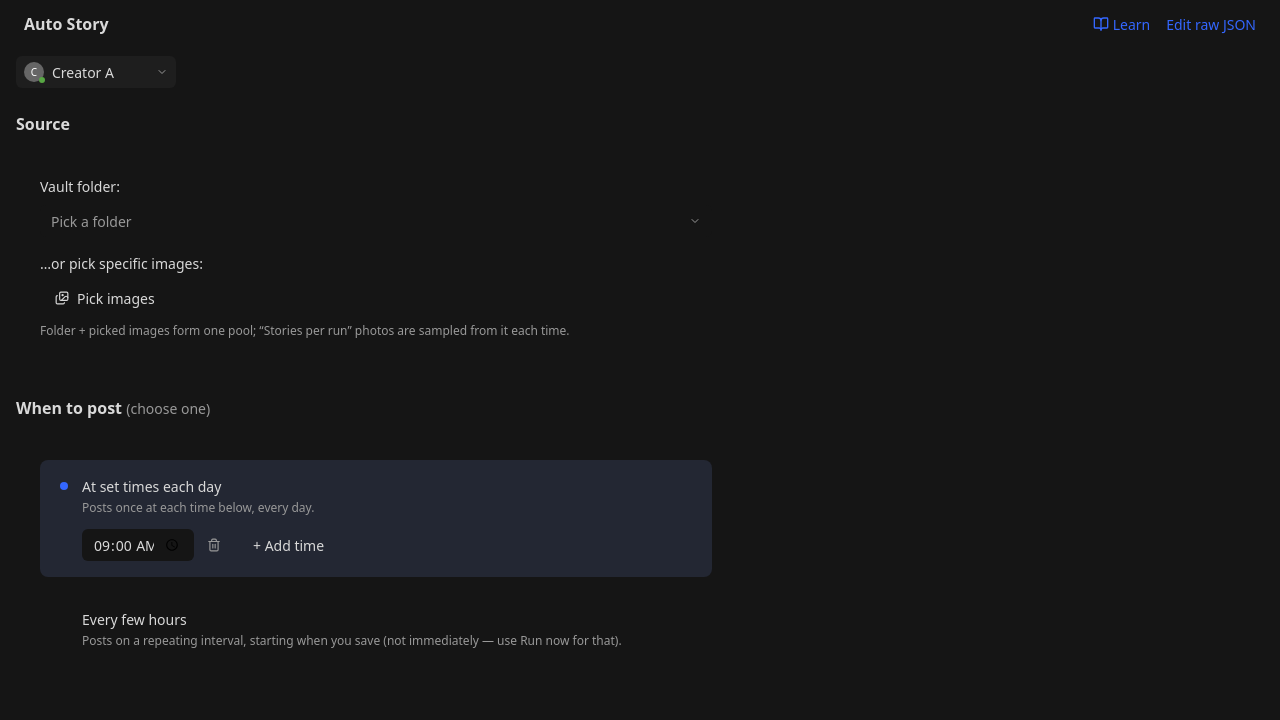
Test: Auto Story (AutoStoriesTab) › has the page header, the five blocks and Create automation when new
The image size is (1280, 720).
Check: the heading "Auto Story" is shown, box [24, 12, 109, 36]
Check: the button "Edit raw JSON" is shown, box [1166, 14, 1256, 34]
Click the button "Learn". click: click(1121, 24)
box: [1093, 14, 1150, 34]
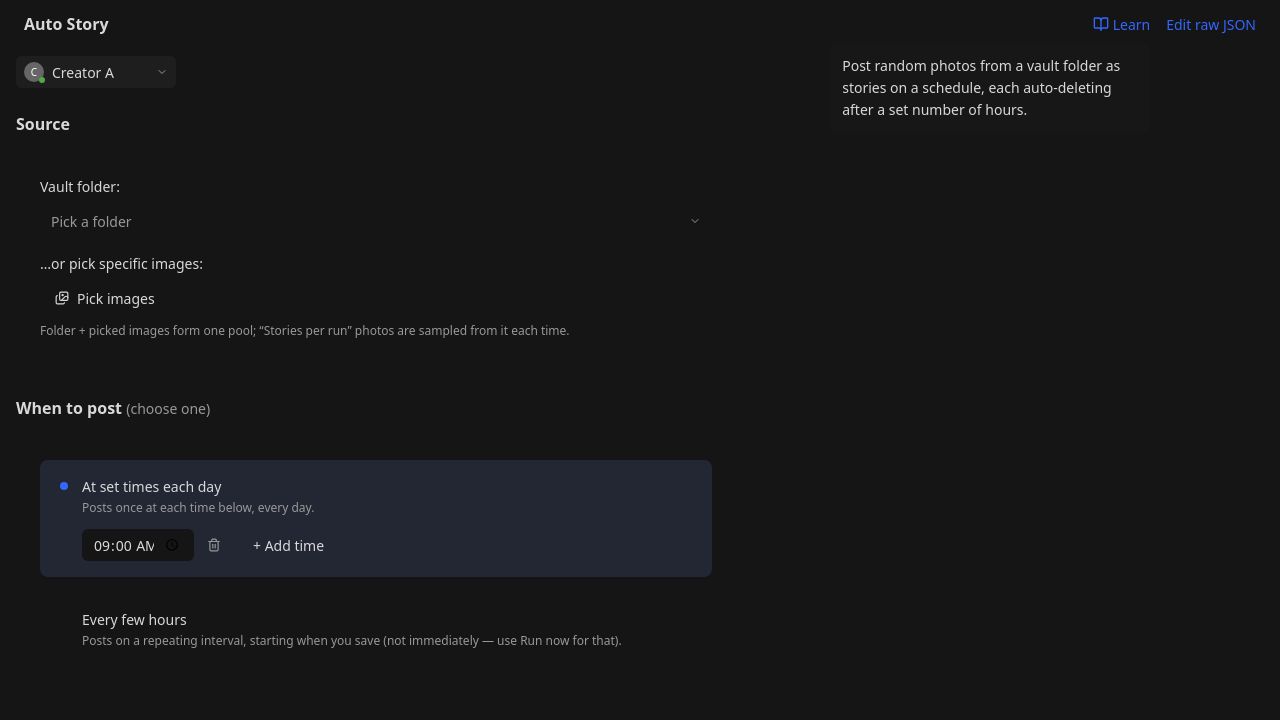
Check: the text "random photos from a vault folder" is shown, box [842, 56, 1120, 118]
Click the radio button labelled "Every few hours". click: click(352, 630)
box: [82, 610, 622, 649]
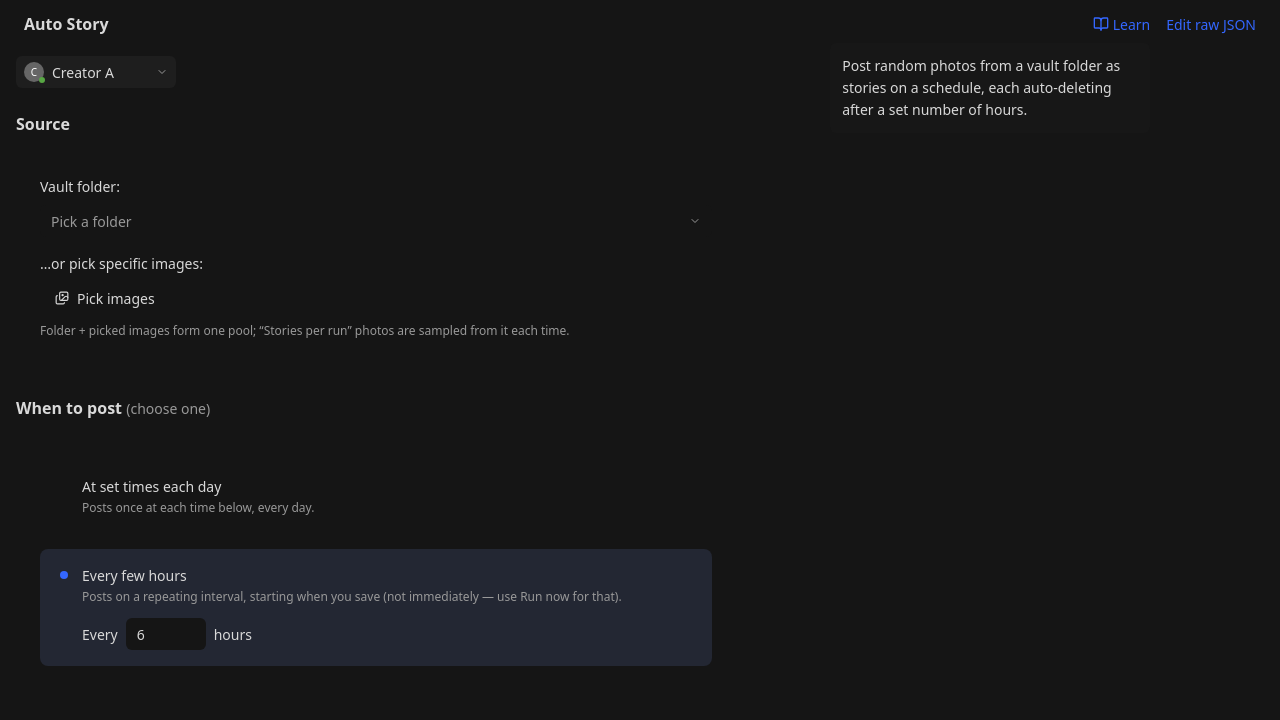
Check: the number field named "Every N hours" holds "6", box [126, 618, 206, 650]
